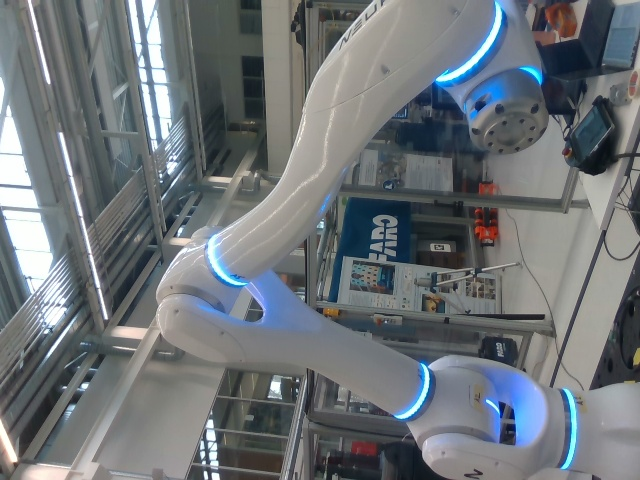Robot arm: (156, 1, 637, 478)
